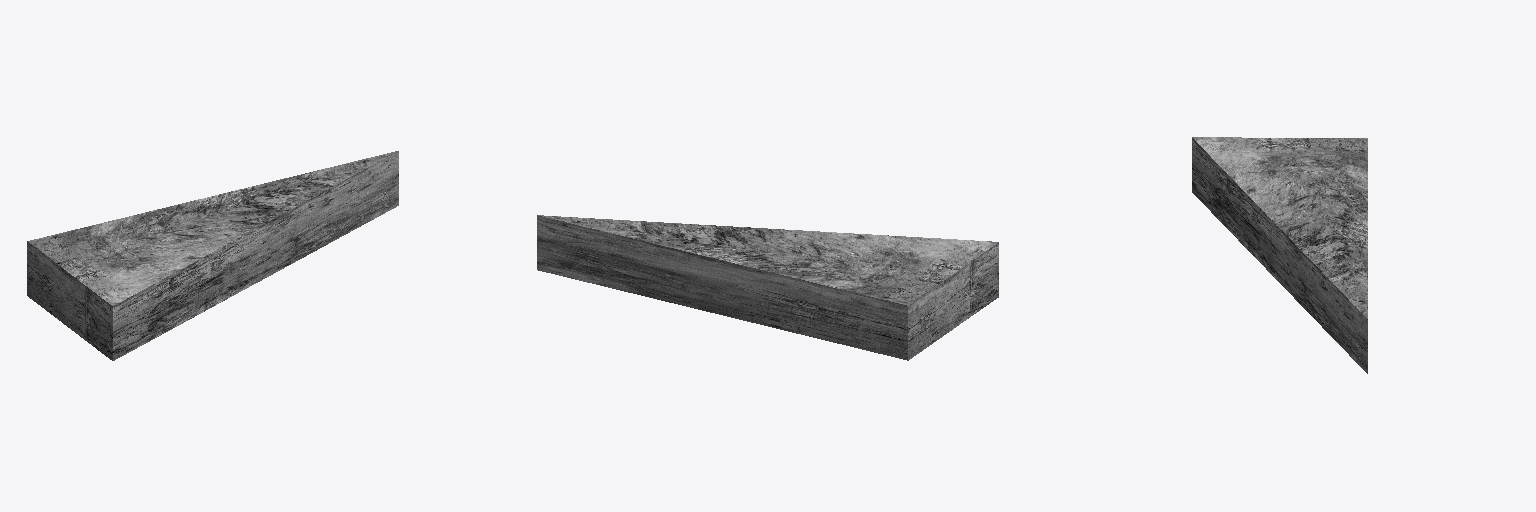
3 renders of one model, left to right at view 1: azimuth 30°, elevation 25°; view 2: azimuth 150°, elevation 25°; view 3: azimuth 270°, elevation 25°, orthographic.
Parts seen in each view (by area): view 1: Prism004; view 2: Prism004; view 3: Prism004.
Part boxes in pixels (x1,y1,x2,y2): Prism004: (27,151,398,360); Prism004: (537,215,998,360); Prism004: (1192,137,1367,373).
Bounding box in the file's own units: 14.25 × 2 × 5.81.
1 materials, 1 textured.